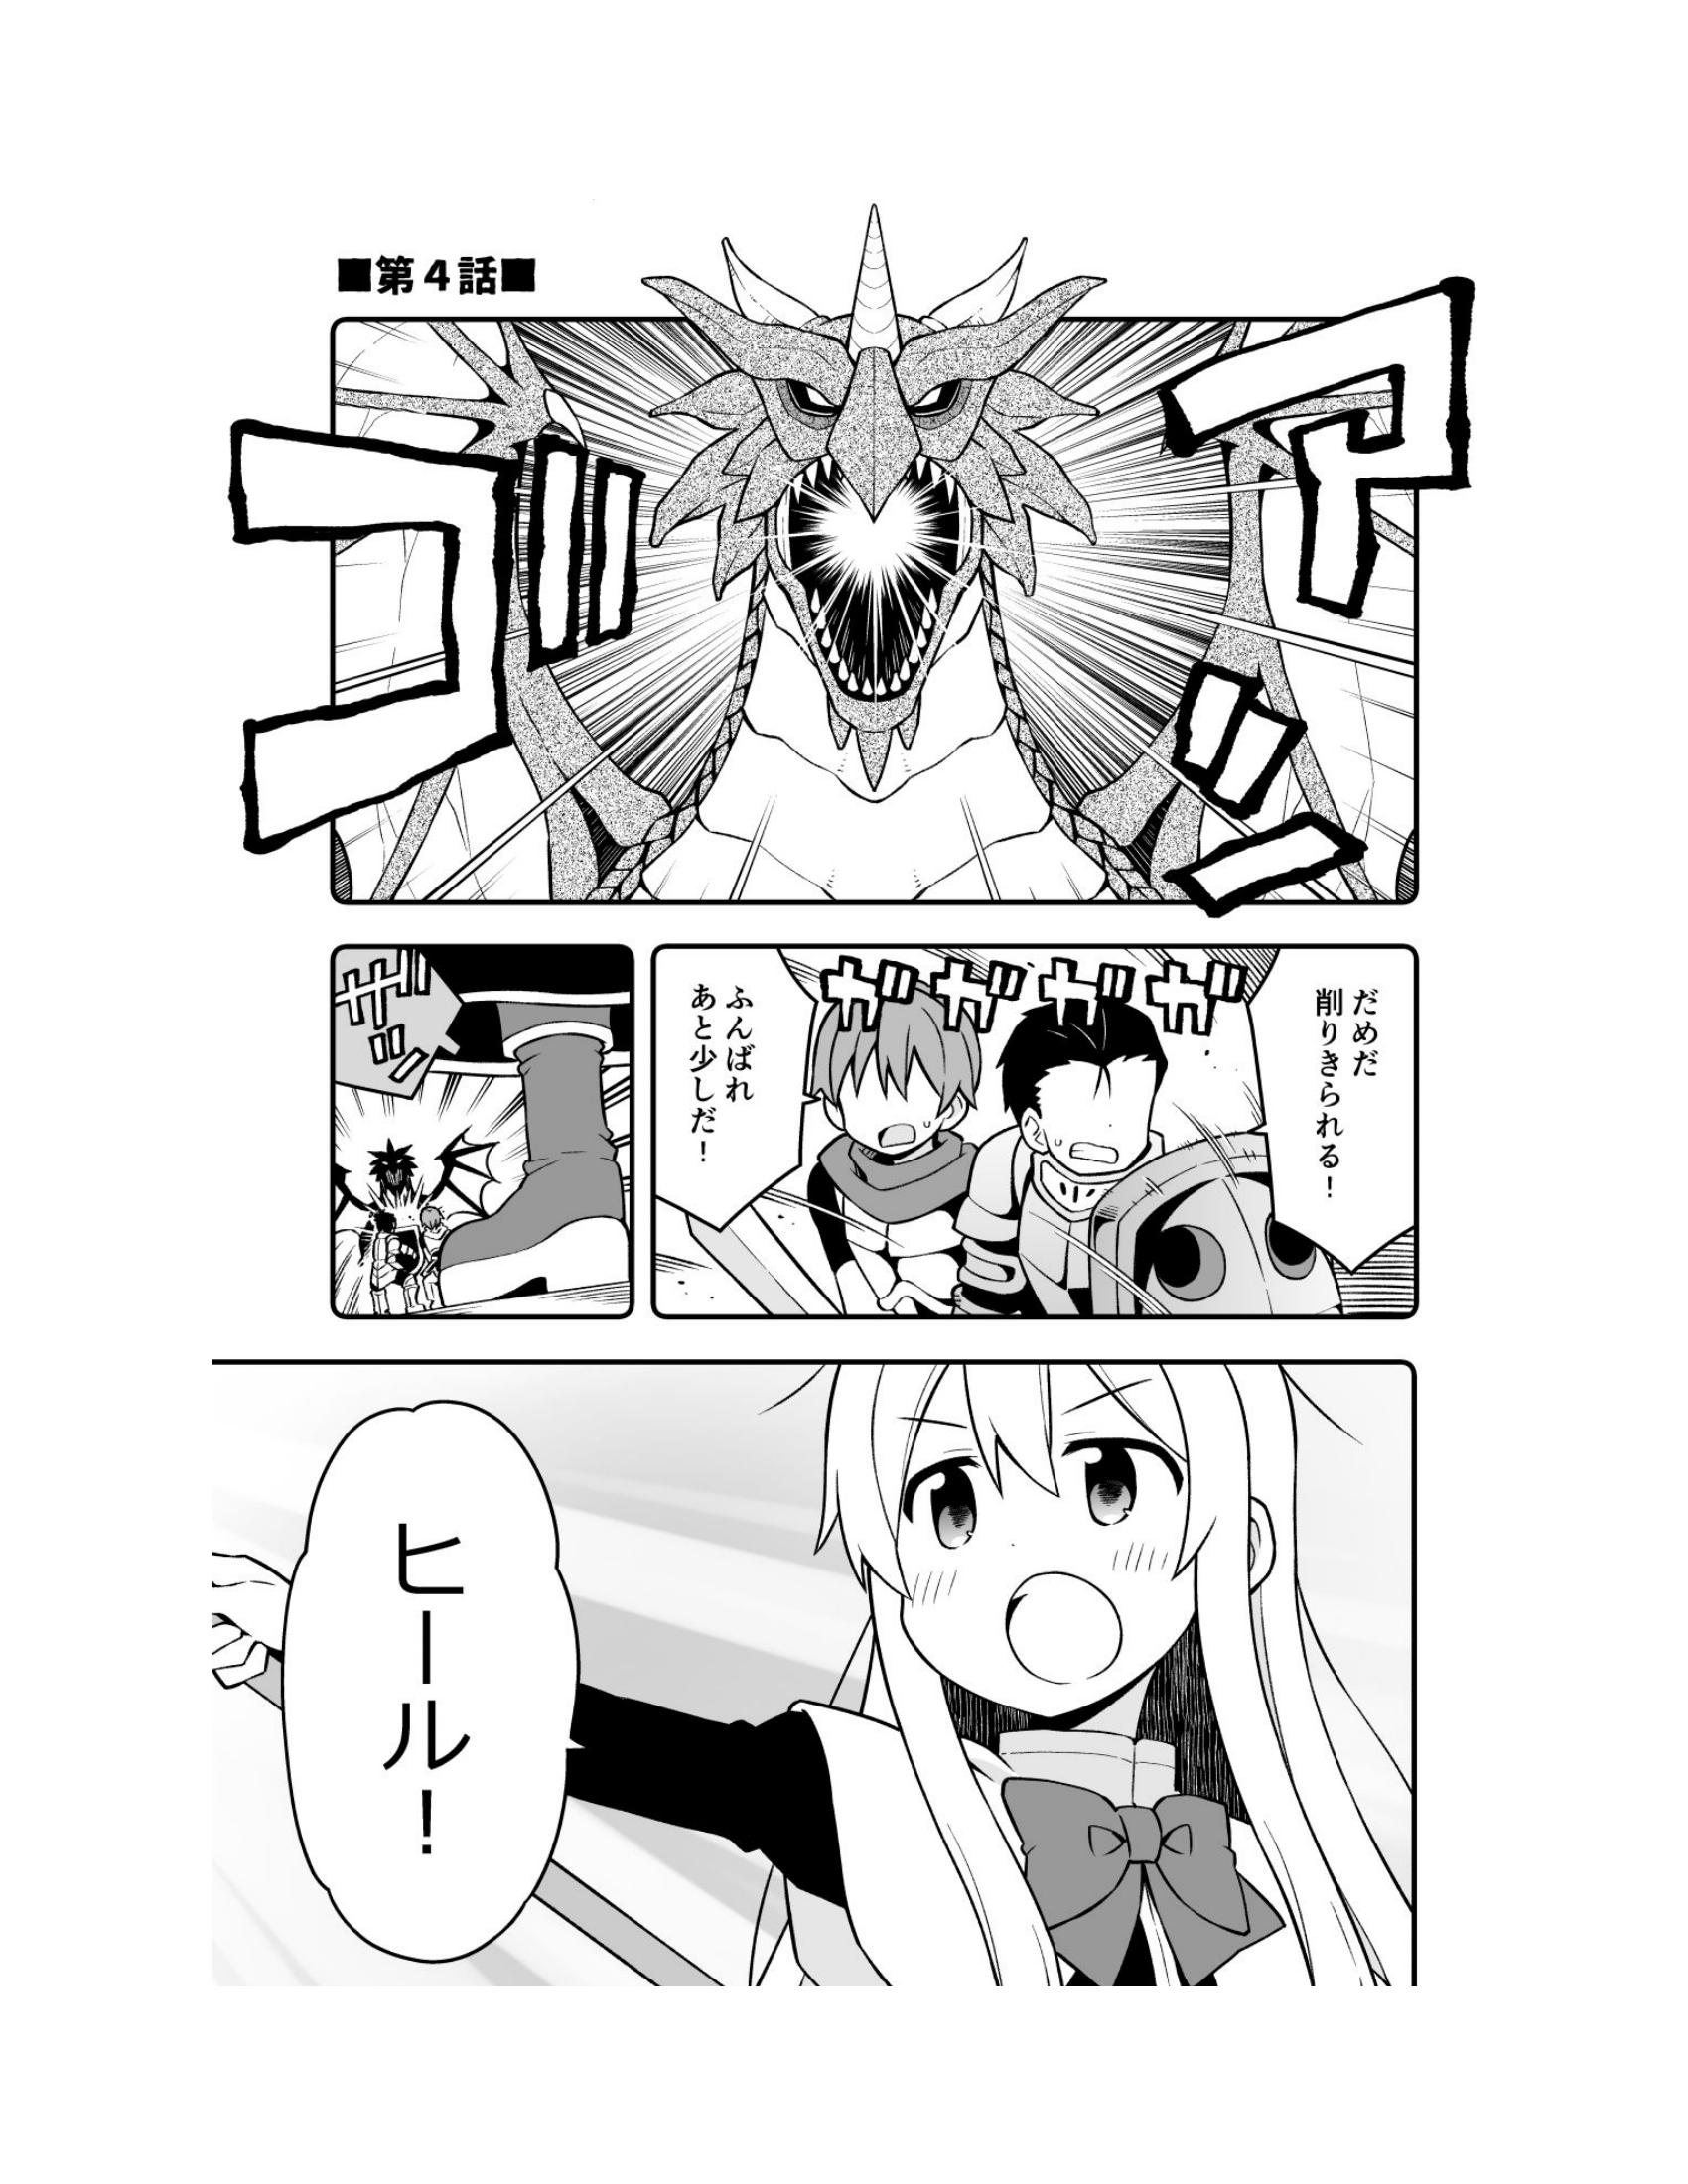a: (291, 1383, 578, 1952), (642, 925, 853, 1259), (1223, 952, 1445, 1262)
